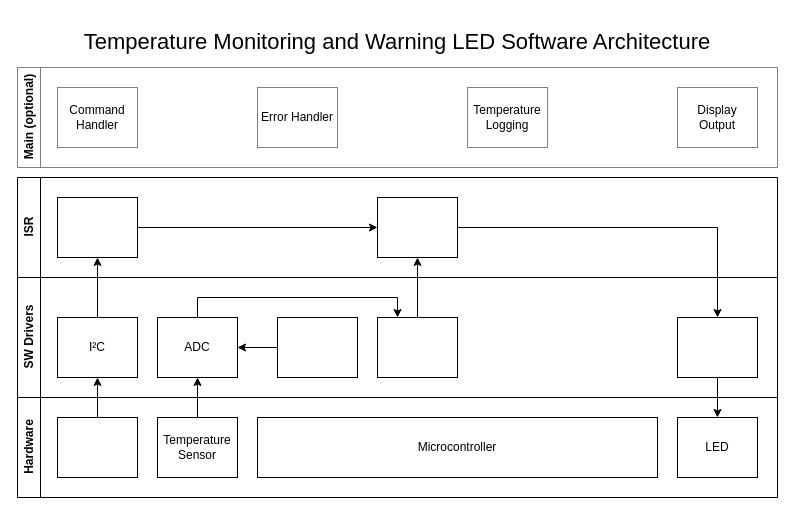
This 795x515 diagram has some shape labels left out. The shapes that lost their labels are listed below. From the top down, each one's centre as x and y in pixels, then its label:
point 97,227: Gain Factor
point 417,227: Temp Data Processing
point 317,347: Timer
point 417,347: DMA
point 717,347: GPIO
point 97,447: EEPROM
